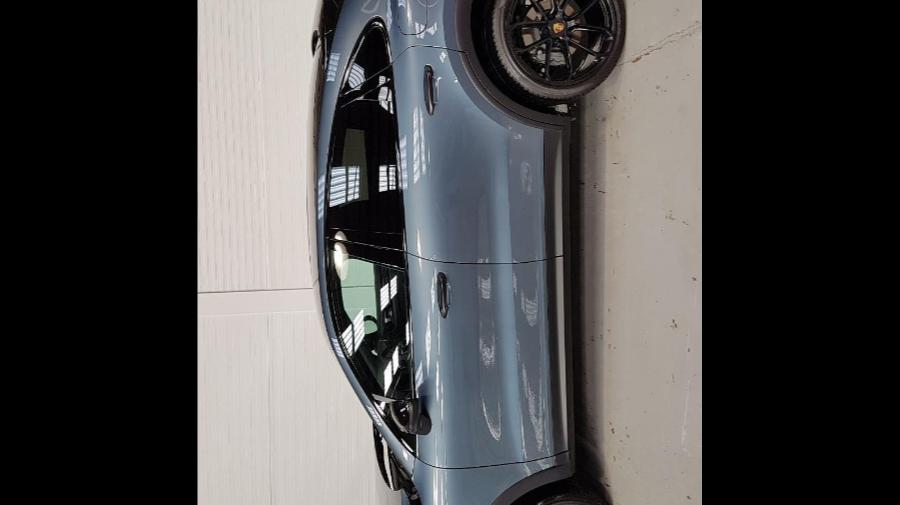Broken part: (372, 424, 424, 505)
